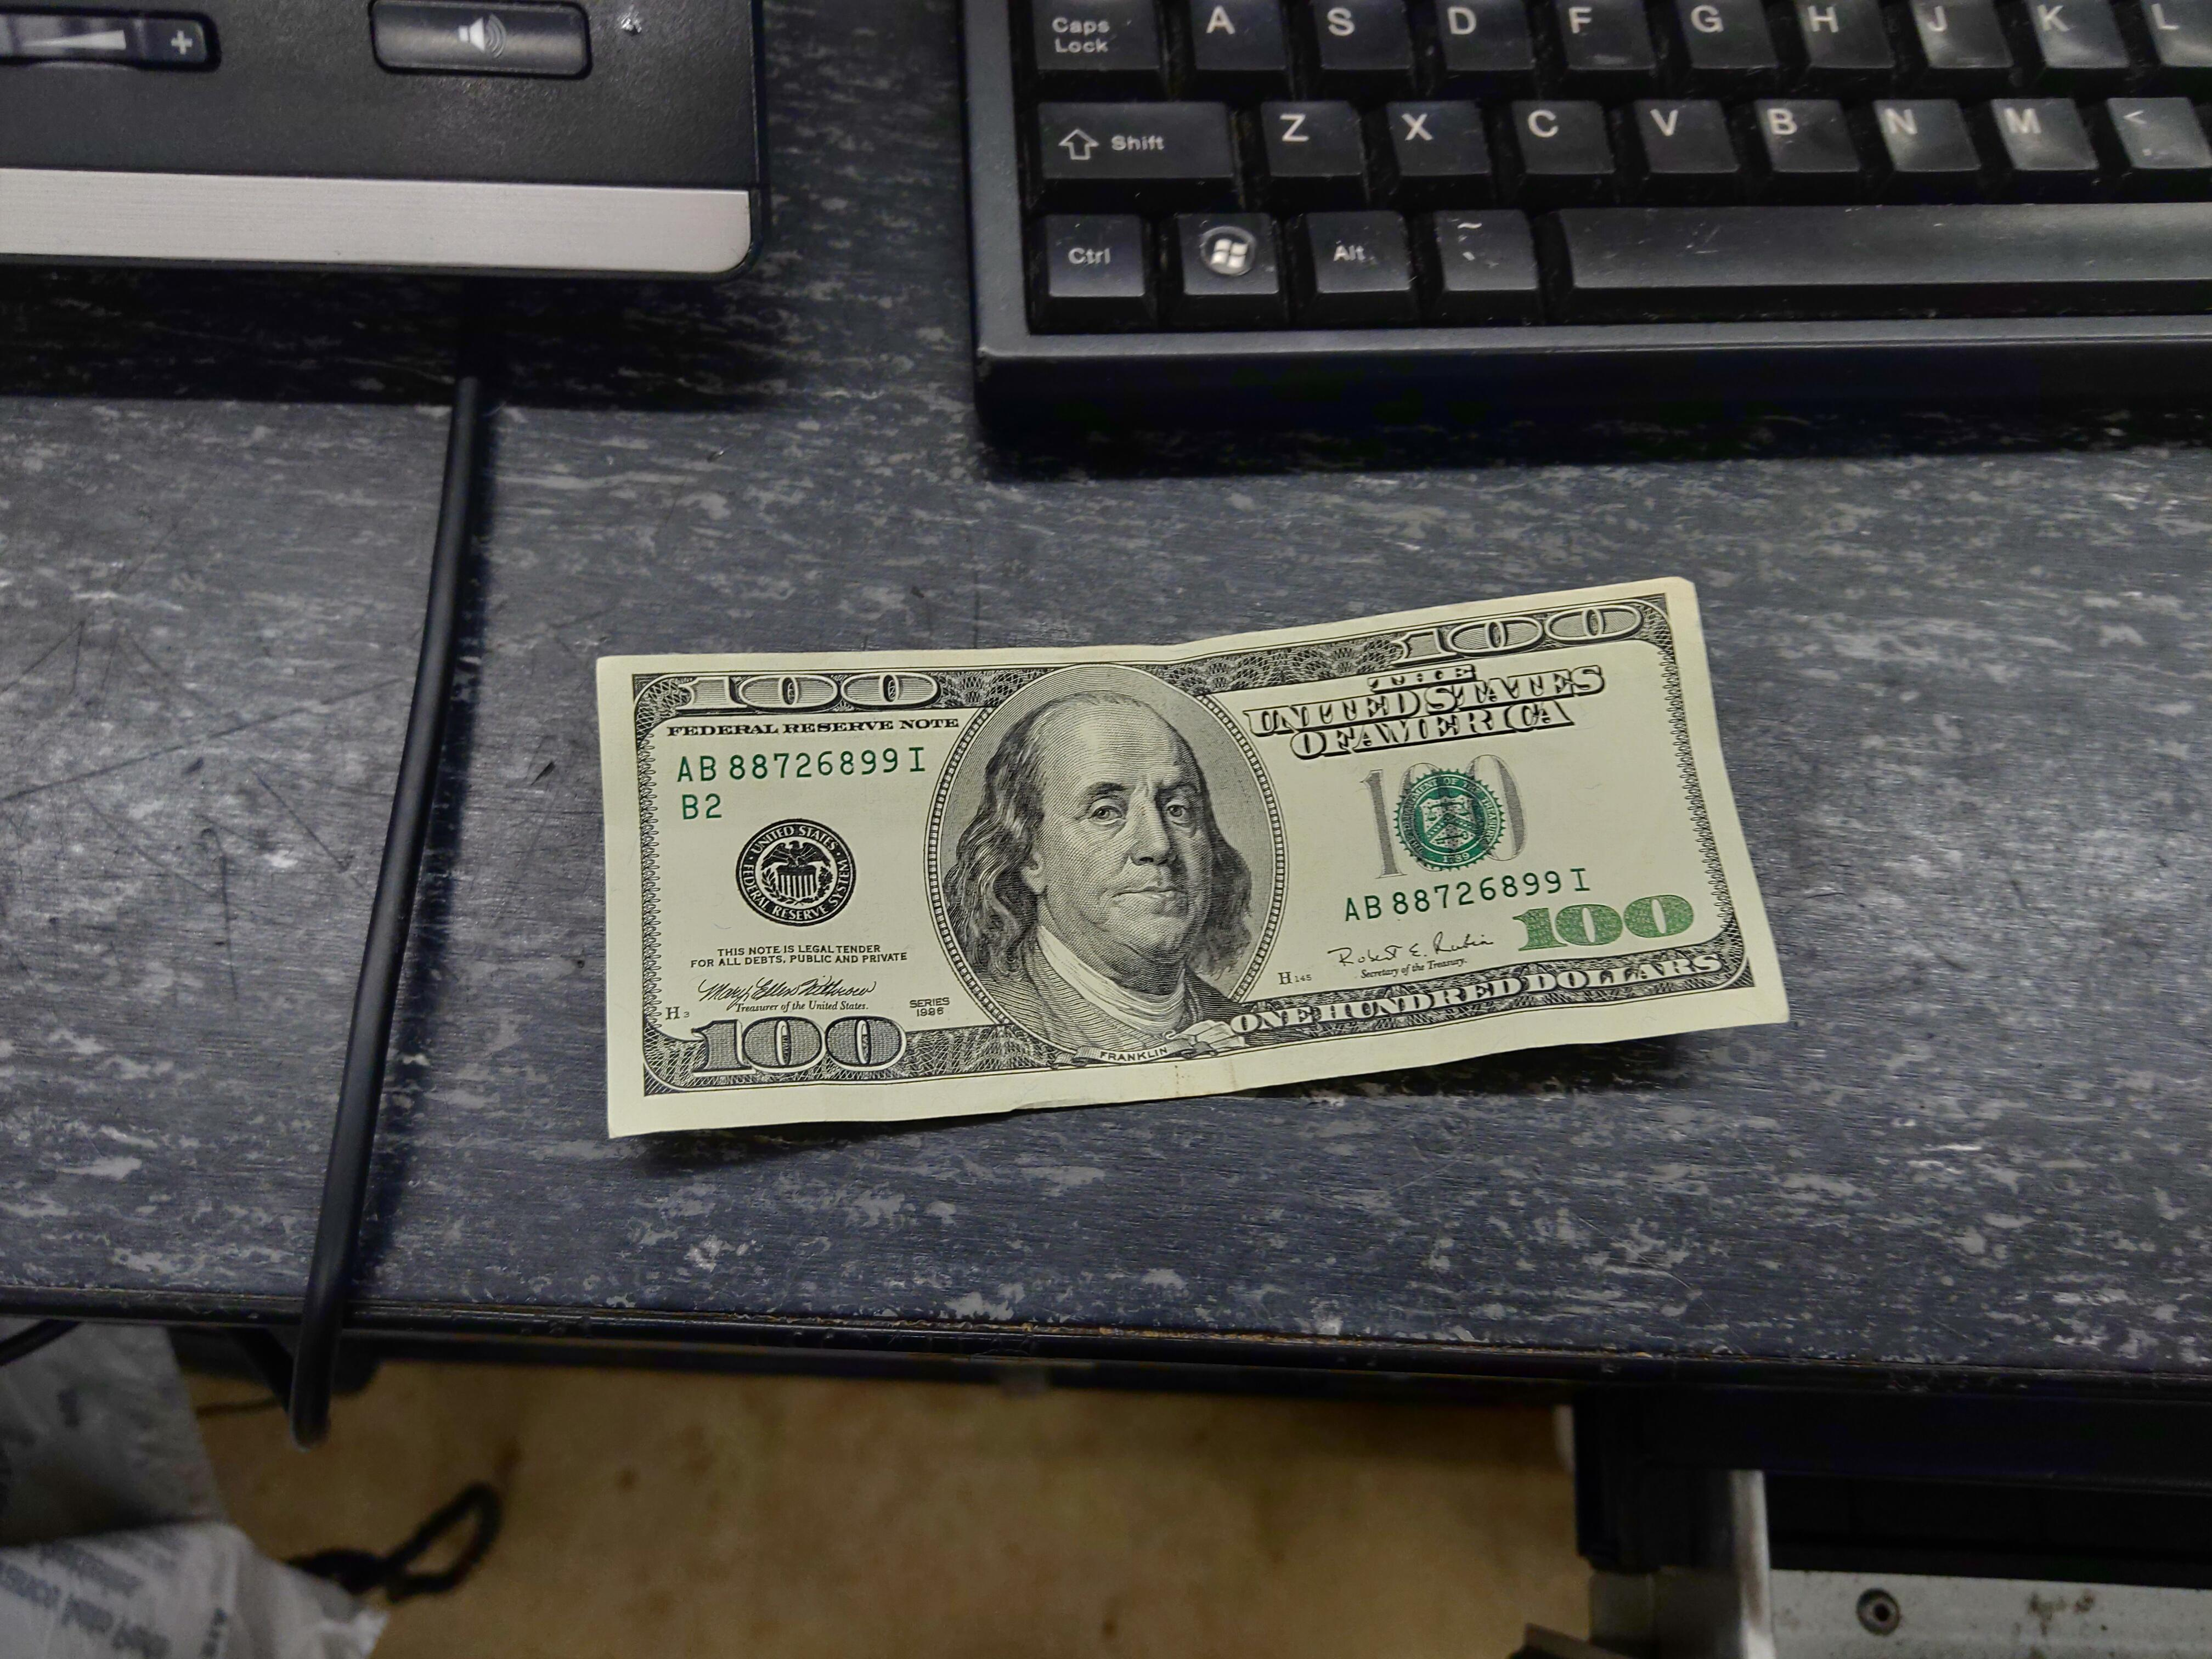HundredBill: (592, 570, 1796, 1140)
